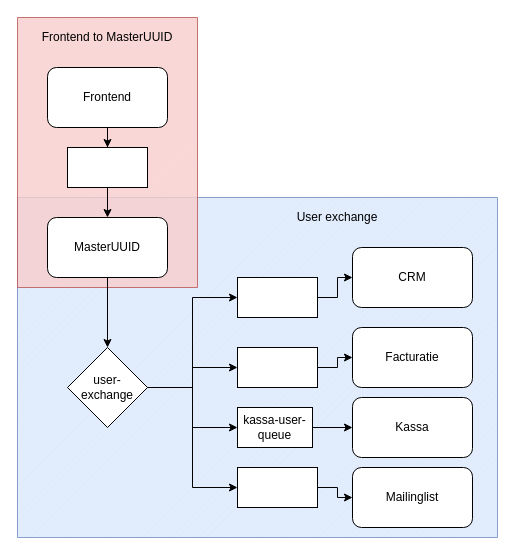
The diagram is 515 pixels wide and 555 high, and some of its shapes have lost their labels. Each missing label, with the centre of its shape:
"crm-user-queue" goes at [277,297].
"facturatie-user-queue" goes at [277,367].
"mailinglist-user-queue" goes at [277,487].
"masteruuid-queue" goes at [107,167].
